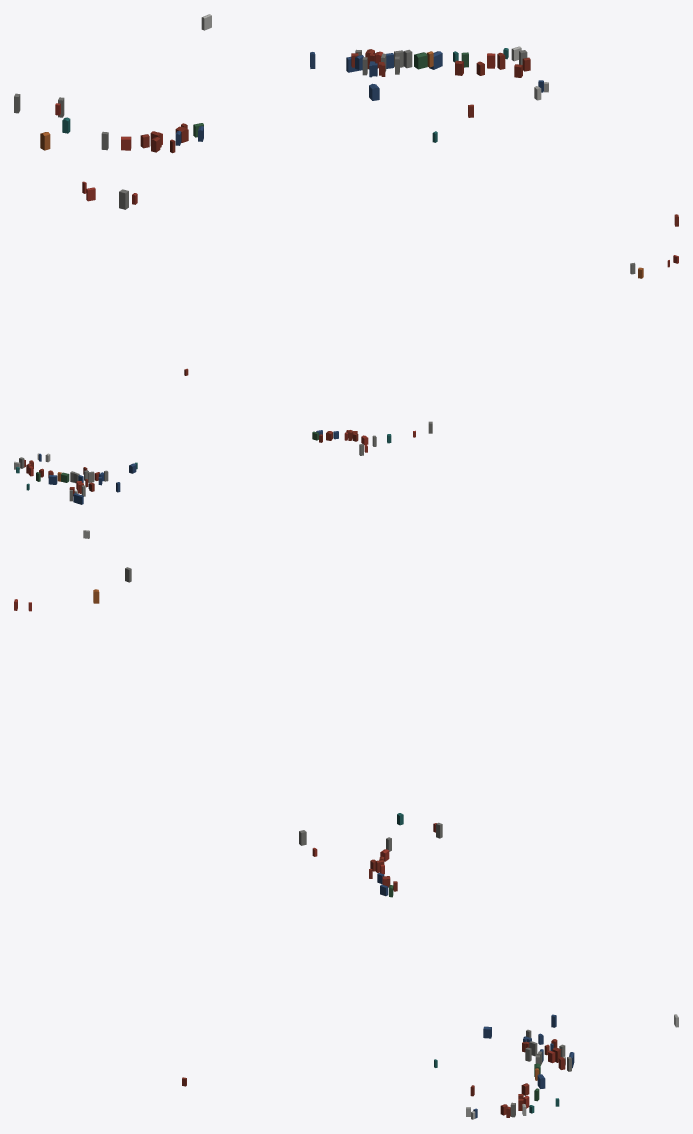
The model's file is near-15-27363-14865.604d25a3.glb.
3 views of the same model, one above another, from view 1: azimuth 30°, elevation 25°; view 2: azimuth 150°, elevation 25°; view 3: azimuth 270°, elevation 25° (orthographic). The views are drawn at different scales.
Bounding box in the file's own units: 1177 × 515 × 1145.
